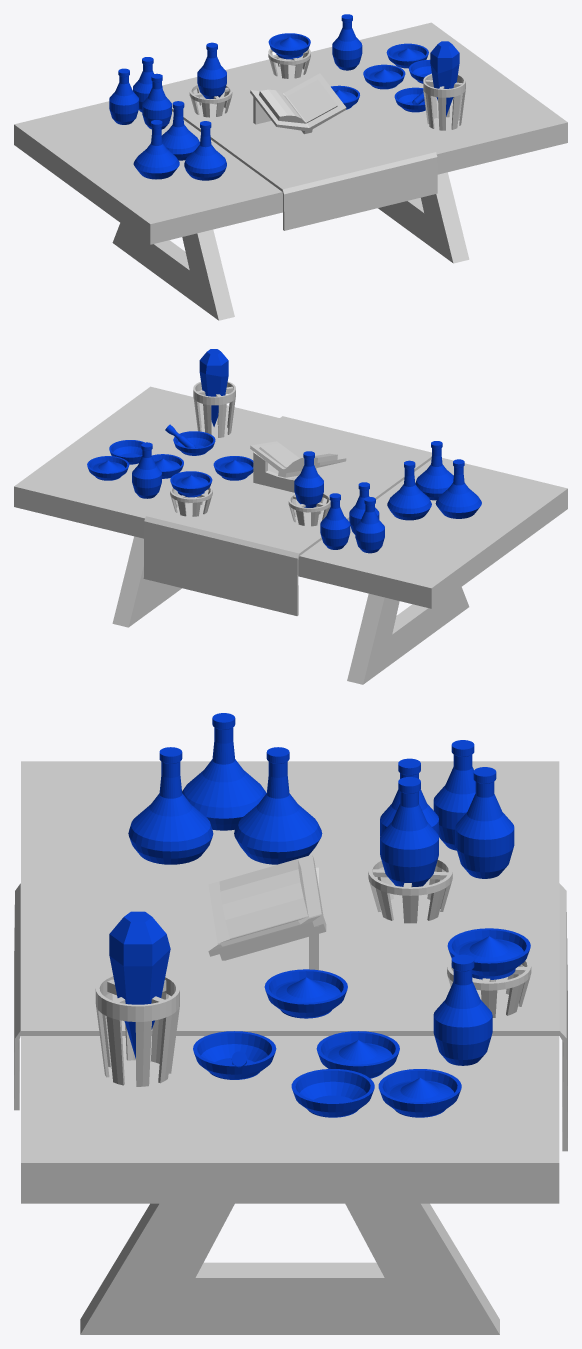
The model's file is Mesa_Mejoras_2_Baja.fbx.
The picture shows the model from 3 angles, top to bottom: view 1: azimuth 30°, elevation 25°; view 2: azimuth 150°, elevation 25°; view 3: azimuth 270°, elevation 25°; orthographic projection. The views are drawn at different scales.
Parts seen in each view (by area): view 1: Mesa_Baja.023; view 2: Mesa_Baja.023; view 3: Mesa_Baja.023.
Part boxes in pixels (x1=…): Mesa_Baja.023: x1=14, y1=14, x2=567, y2=320; Mesa_Baja.023: x1=14, y1=349, x2=567, y2=684; Mesa_Baja.023: x1=14, y1=713, x2=567, y2=1334.
Size of the model in its own units: 544 by 258 by 317.
